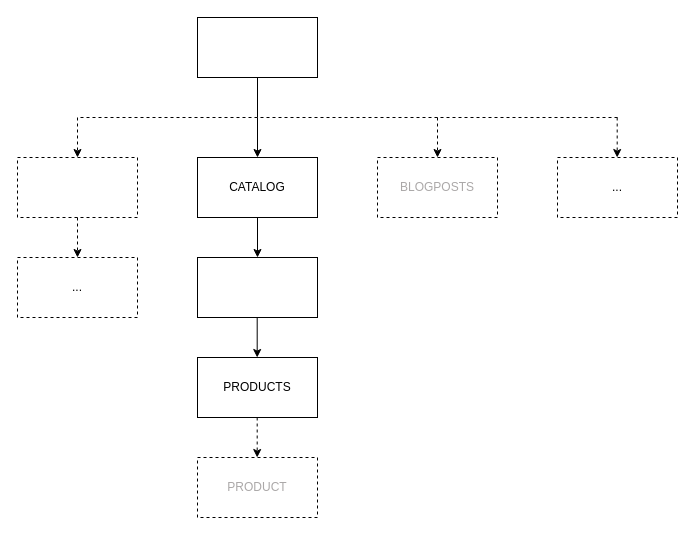
The diagram is 695 pixels wide and 535 high, and some of its shapes have lost their labels. Each missing label, with the centre of its shape:
ABOUT: pixel 77 187
CATEGORIES: pixel 257 287
HOME: pixel 257 47
